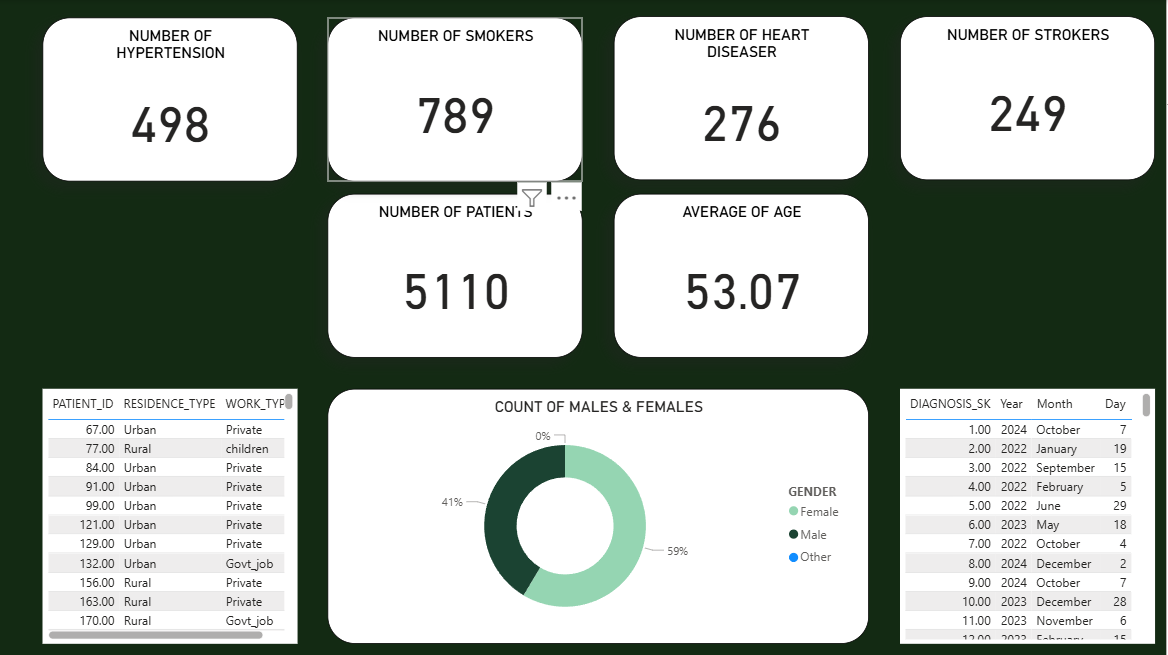

The page's visual inventory and layout, read from the dashboard file:
{"tool":"powerbi","page":{"name":"Page 1","canvas":[1280,720],"ordinal":0},"visuals":[{"type":"donutChart","title":"COUNT OF MALES & FEMALES","fields":{"Series":["DIM_PATIENT.GENDER"],"Y":["DIM_PATIENT.PATIENT_ID"]},"box":[359.5,426.8,594.2,279.9],"z":0},{"type":"card","title":"NUMBER OF PATIENTS","fields":{"Values":["DIM_PATIENT.PATIENT_SK"]},"box":[359.5,212.7,279.9,179.8],"z":1000},{"type":"card","title":"NUMBER OF HEART DISEASER","fields":{"Values":["DIM_PATIENT.NUM OF HEART DISEASER"]},"box":[673.8,17.8,279.9,179.8],"z":2000},{"type":"card","title":"AVERAGE OF AGE","fields":{"Values":["DIM_PATIENT.AGE"]},"box":[673.8,212.7,279.9,179.8],"z":3000},{"type":"card","title":"NUMBER OF SMOKERS","fields":{"Values":["DIM_PATIENT.NUM OF SMOKERS"]},"box":[359.5,19.2,279.9,179.8],"z":4000},{"type":"card","title":"NUMBER OF STROKERS","fields":{"Values":["DIM_PATIENT.NUM OF STROKERS"]},"box":[988,17.8,279.9,179.8],"z":5000},{"type":"card","title":"NUMBER OF HYPERTENSION","fields":{"Values":["DIM_PATIENT.NUM OF HYPERTENSION"]},"box":[46.7,19.2,279.9,179.8],"z":6000},{"type":"tableEx","fields":{"Values":["DIM_PATIENT.PATIENT_ID","DIM_PATIENT.RESIDENCE_TYPE","DIM_PATIENT.WORK_TYPE"]},"box":[46.7,426.8,279.9,279.9],"z":7000},{"type":"tableEx","fields":{"Values":["DIM_DIAGNOSIS.DIAGNOSIS_SK","DIM_DIAGNOSIS.DIAGNOSIS_DATE.Variation.Date Hierarchy.Year","DIM_DIAGNOSIS.DIAGNOSIS_DATE.Variation.Date Hierarchy.Month","DIM_DIAGNOSIS.DIAGNOSIS_DATE.Variation.Date Hierarchy.Day"]},"box":[988,426.8,279.9,279.9],"z":8000}]}

Visuals, with their boxes in screenshot pixels (x1, y1, x2, y2), scaled from the page's 1280x720 canvas onto the 1168x655 screenshot:
"COUNT OF MALES & FEMALES" donutChart: bbox(328, 388, 870, 643)
"NUMBER OF PATIENTS" card: bbox(328, 193, 583, 357)
"NUMBER OF HEART DISEASER" card: bbox(615, 16, 870, 180)
"AVERAGE OF AGE" card: bbox(615, 193, 870, 357)
"NUMBER OF SMOKERS" card: bbox(328, 17, 583, 181)
"NUMBER OF STROKERS" card: bbox(902, 16, 1157, 180)
"NUMBER OF HYPERTENSION" card: bbox(43, 17, 298, 181)
tableEx - DIM_PATIENT.PATIENT_ID x DIM_PATIENT.RESIDENCE_TYPE: bbox(43, 388, 298, 643)
tableEx - DIM_DIAGNOSIS.DIAGNOSIS_SK x DIM_DIAGNOSIS.DIAGNOSIS_DATE.Variation.Date Hierarchy.Year: bbox(902, 388, 1157, 643)
